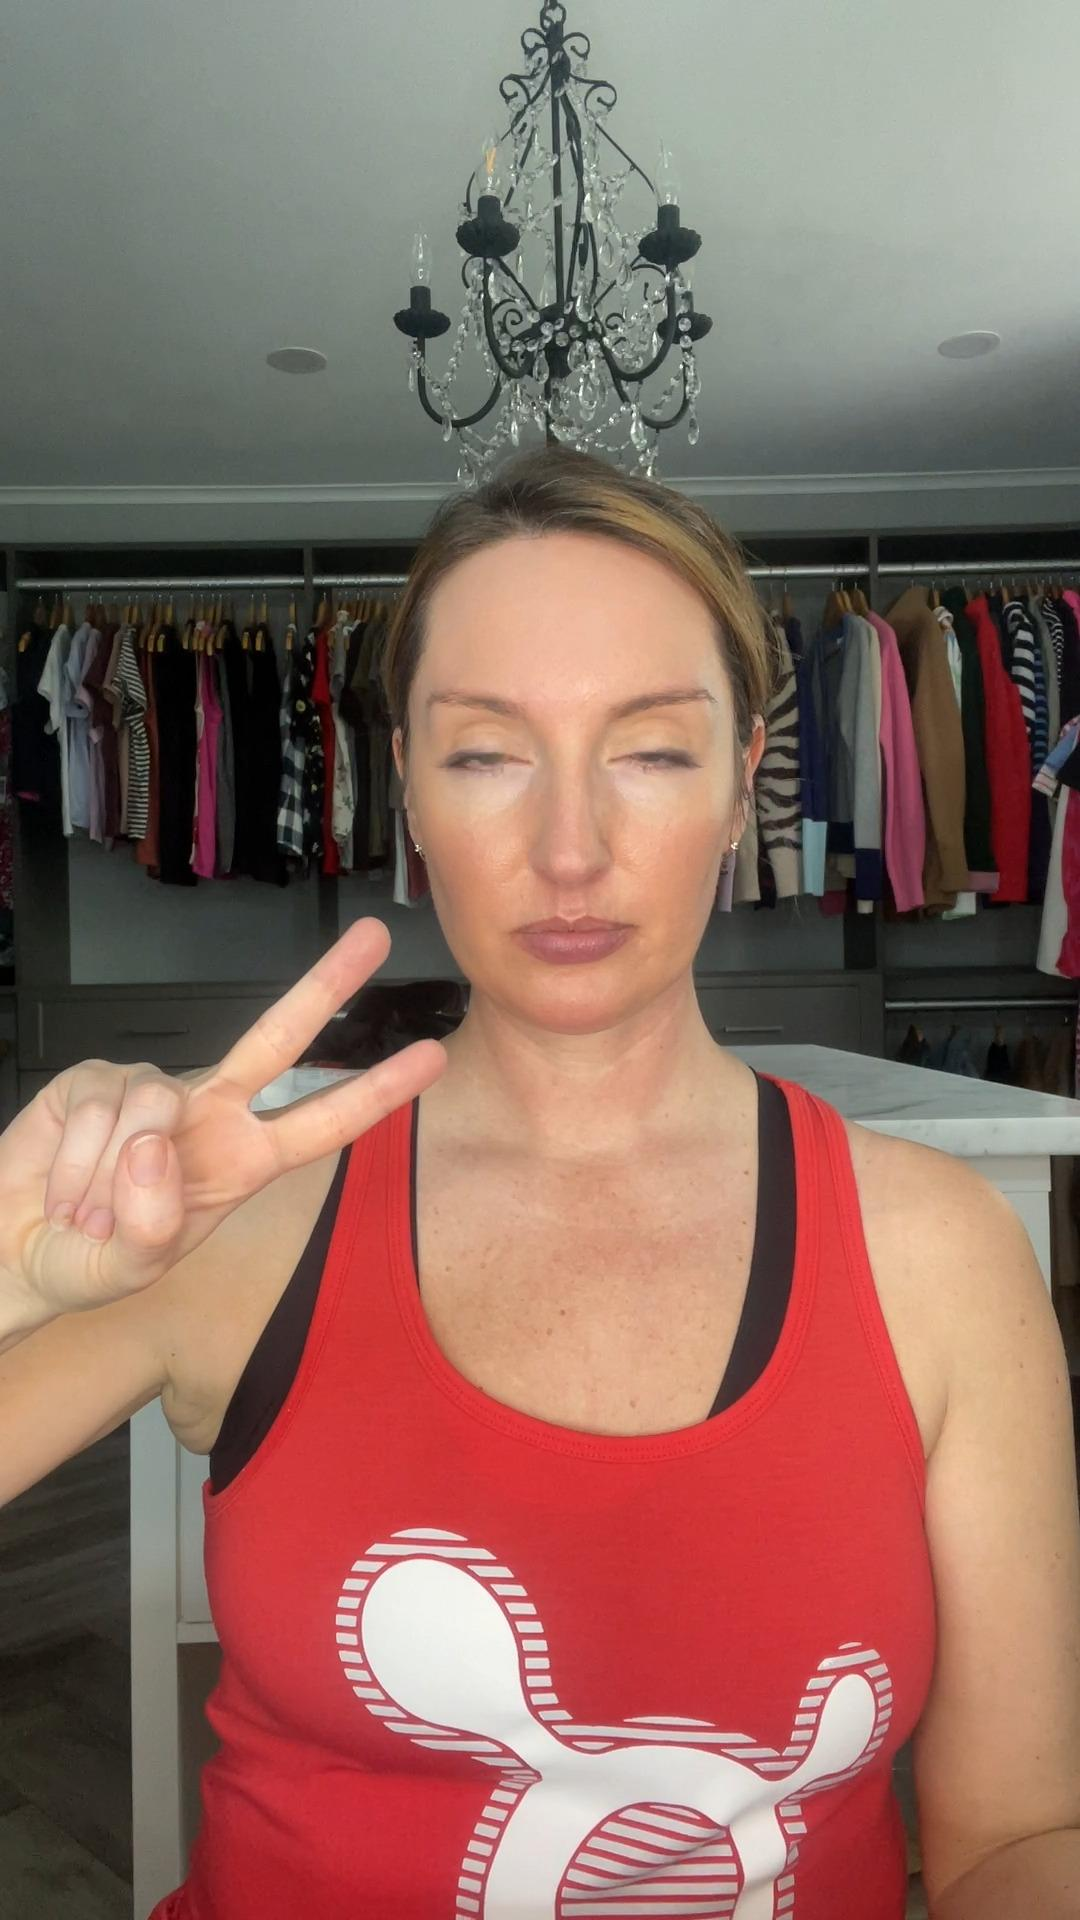Scissors: (0, 914, 448, 1312)
